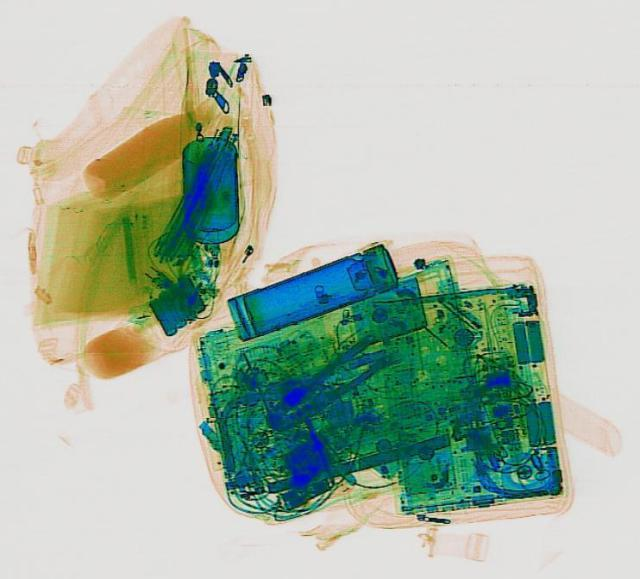Pliers: (254, 332, 396, 437)
